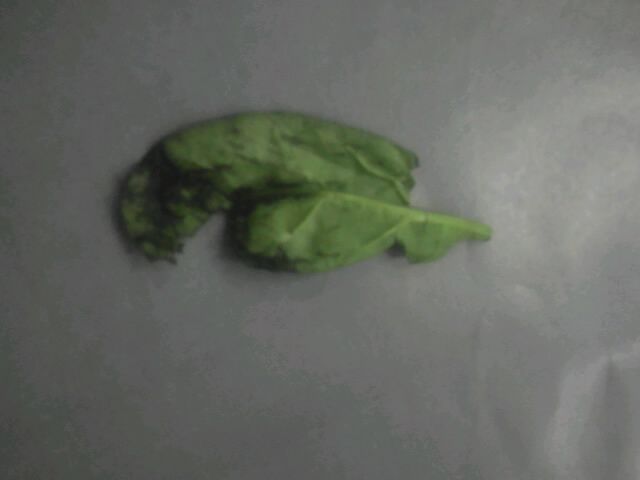yellow: (112, 106, 497, 280)
